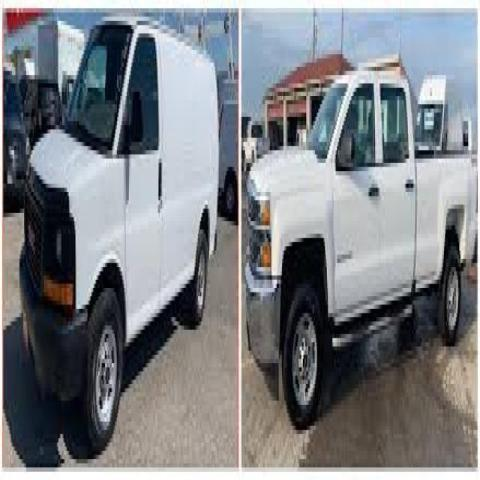pickup-truck: (241, 91, 479, 434)
van: (16, 13, 228, 458)
